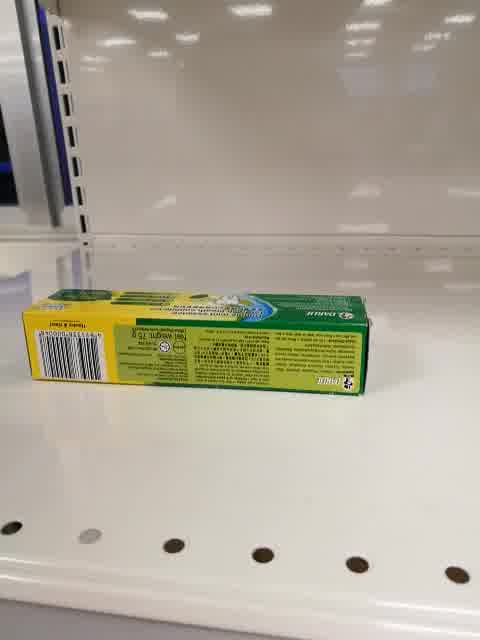toothpaste: (20, 288, 371, 398)
